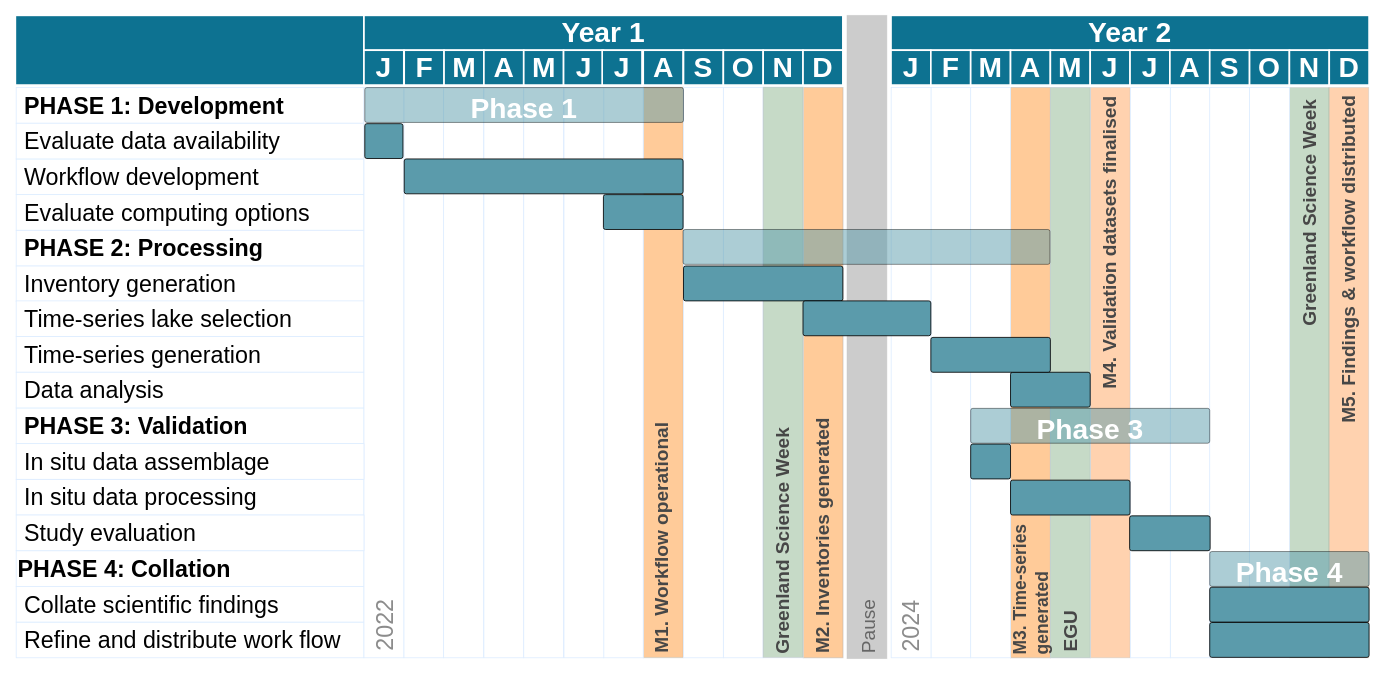
Image size: 1384x675. Some labels were removed from this diagram. Each missing label, with the centre of its shape:
"Phase 2" belongs at point (866, 246).
"Task" belongs at point (189, 49).
